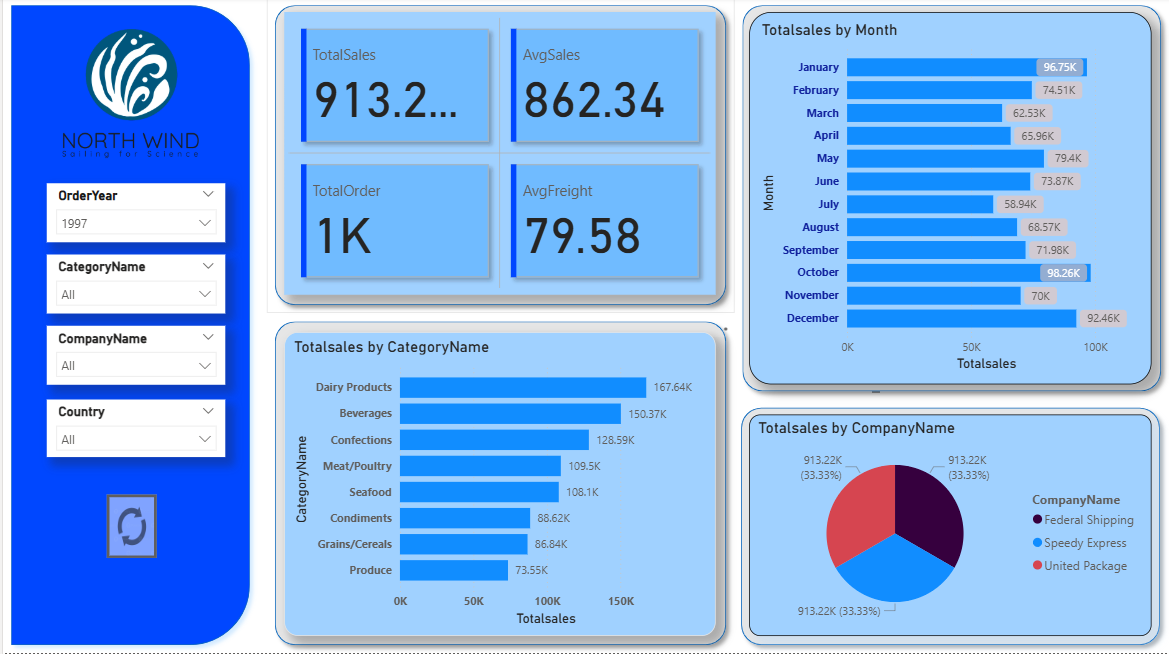

The page's visual inventory and layout, read from the dashboard file:
{"tool":"powerbi","page":{"name":"home 1","canvas":[1280,720],"ordinal":0},"visuals":[{"type":"shape","box":[0,0,279.9,720.4],"z":0},{"type":"shape","box":[289.5,0,513.2,347.2],"z":1000},{"type":"shape","box":[801.4,441.9,477.5,278.6],"z":2000},{"type":"shape","box":[802.7,0,477.5,441.9],"z":3000},{"type":"shape","box":[289.5,347.2,513.2,373.2],"z":4000},{"type":"image","box":[60.4,28.8,159.2,155.1],"z":5000},{"type":"cardVisual","fields":{"Data":["selected measure.Totalsales","selected measure.TOTALORDER1","Categories.AvGSales","selected measure.Avgfreight"]},"box":[308.7,16.5,473.4,310.1],"z":6000},{"type":"clusteredBarChart","fields":{"Category":["Orders.RequiredDate.Variation.Date Hierarchy.Month"],"Y":["selected measure.Totalsales"]},"box":[819.2,16.5,441.9,408.9],"z":7000},{"type":"barChart","fields":{"Y":["selected measure.Totalsales"],"Category":["Categories.CategoryName"]},"box":[308.7,367.8,473.4,333.4],"z":8000},{"type":"pieChart","fields":{"Y":["selected measure.Totalsales"],"Category":["Shippers.CompanyName"]},"box":[819.2,458.3,441.9,242.9],"z":9000},{"type":"slicer","fields":{"Values":["Orders.OrderDate.Variation.Date Hierarchy.Year"]},"box":[48,204.5,196.2,64.5],"z":10000},{"type":"slicer","fields":{"Values":["Categories.CategoryName"]},"box":[48,282.7,196.2,64.5],"z":11000},{"type":"slicer","fields":{"Values":["Shippers.CompanyName"]},"box":[48,360.9,196.2,64.5],"z":12000},{"type":"slicer","fields":{"Values":["Employees.Country"]},"box":[48,441.9,196.2,63.1],"z":13000},{"type":"actionButton","box":[113.9,546.1,54.9,70],"z":14000}]}

Visuals, with their boxes in screenshot pixels (x1, y1, x2, y2), scaled from the page's 1280x720 canvas onto the 1169x654 screenshot:
shape: bbox=[0, 0, 256, 653]
shape: bbox=[264, 0, 733, 315]
shape: bbox=[732, 401, 1168, 653]
shape: bbox=[733, 0, 1168, 401]
shape: bbox=[264, 315, 733, 653]
image: bbox=[55, 26, 201, 167]
cardVisual - selected measure.Totalsales x selected measure.TOTALORDER1: bbox=[282, 15, 714, 297]
clusteredBarChart - Orders.RequiredDate.Variation.Date Hierarchy.Month x selected measure.Totalsales: bbox=[748, 15, 1152, 386]
barChart - selected measure.Totalsales x Categories.CategoryName: bbox=[282, 334, 714, 637]
pieChart - selected measure.Totalsales x Shippers.CompanyName: bbox=[748, 416, 1152, 637]
slicer - Orders.OrderDate.Variation.Date Hierarchy.Year: bbox=[44, 186, 223, 244]
slicer - Categories.CategoryName: bbox=[44, 257, 223, 315]
slicer - Shippers.CompanyName: bbox=[44, 328, 223, 386]
slicer - Employees.Country: bbox=[44, 401, 223, 459]
actionButton: bbox=[104, 496, 154, 560]
